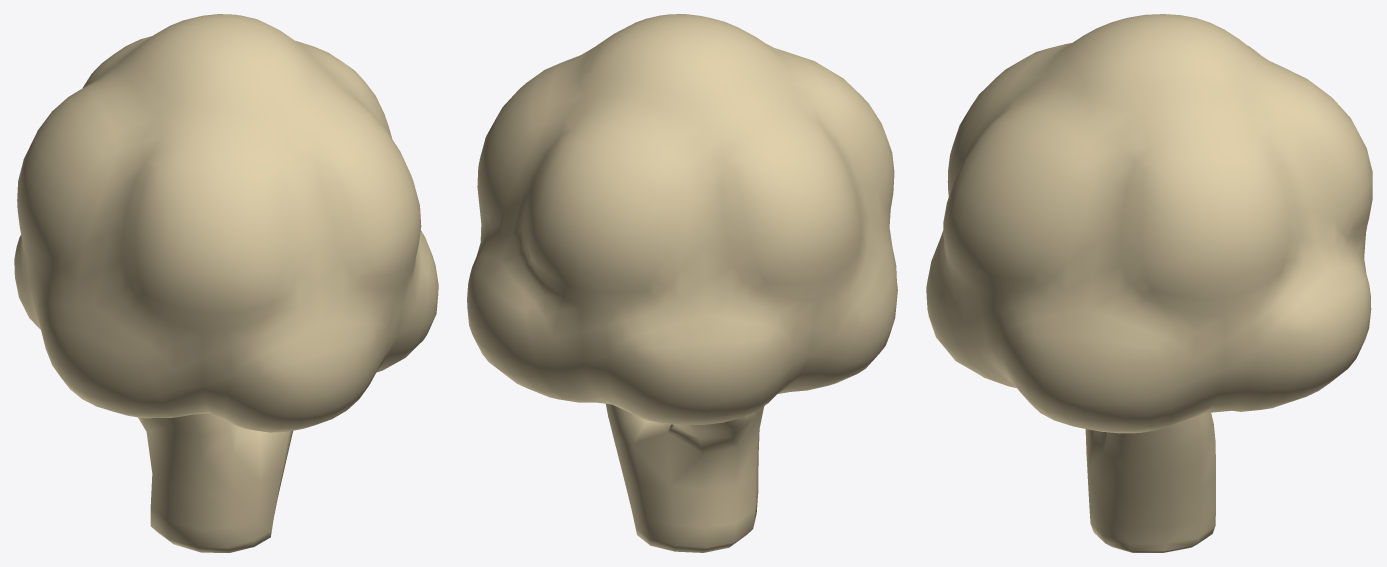
Rendered from Cauliflower_01.dae.
The picture shows the model from 3 angles, left to right: view 1: azimuth 30°, elevation 25°; view 2: azimuth 150°, elevation 25°; view 3: azimuth 270°, elevation 25°; orthographic projection. The views are drawn at different scales.
Parts seen in each view (by area): view 1: Cauliflower_01_LOD0; view 2: Cauliflower_01_LOD0; view 3: Cauliflower_01_LOD0.
Boxes of the visible parts, <box> form: Cauliflower_01_LOD0: <box>14,14,438,552</box>; Cauliflower_01_LOD0: <box>467,14,897,552</box>; Cauliflower_01_LOD0: <box>926,14,1372,552</box>.
Size of what is drawn, in the model's own units: 4.87 by 5.08 by 6.4.
